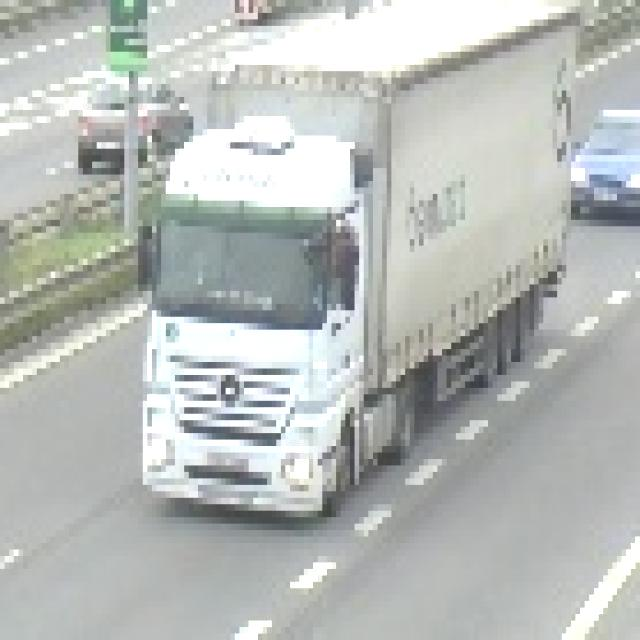TRUCK: (140, 0, 575, 526)
